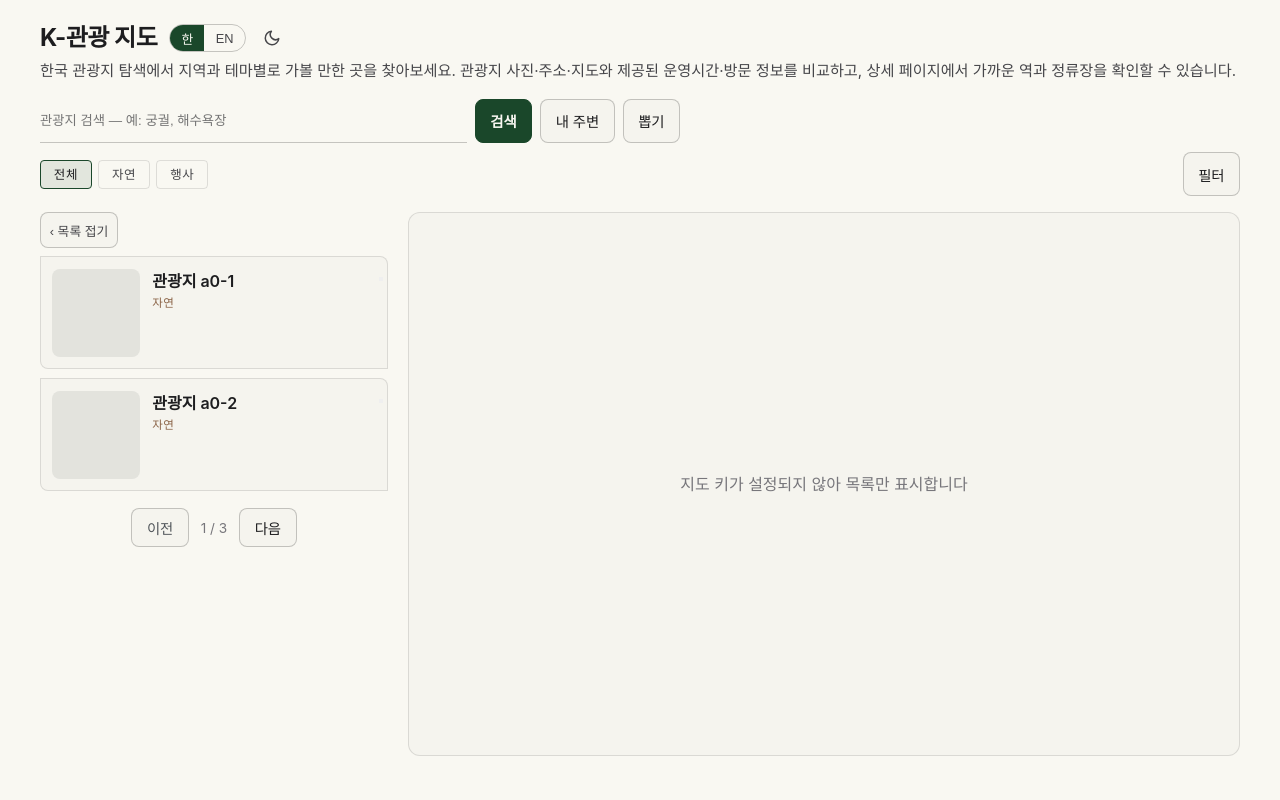
Test: PlacePage 속성 칩 › 다음 쪽은 건수를 요청하지 않고, 앞서 받은 건수를 그대로 보인다
Expected: the heading "관광지 a0-1" is shown, [152,269,234,293]
Click the button "필터" at (1211, 174), box [1183,152,1240,196]
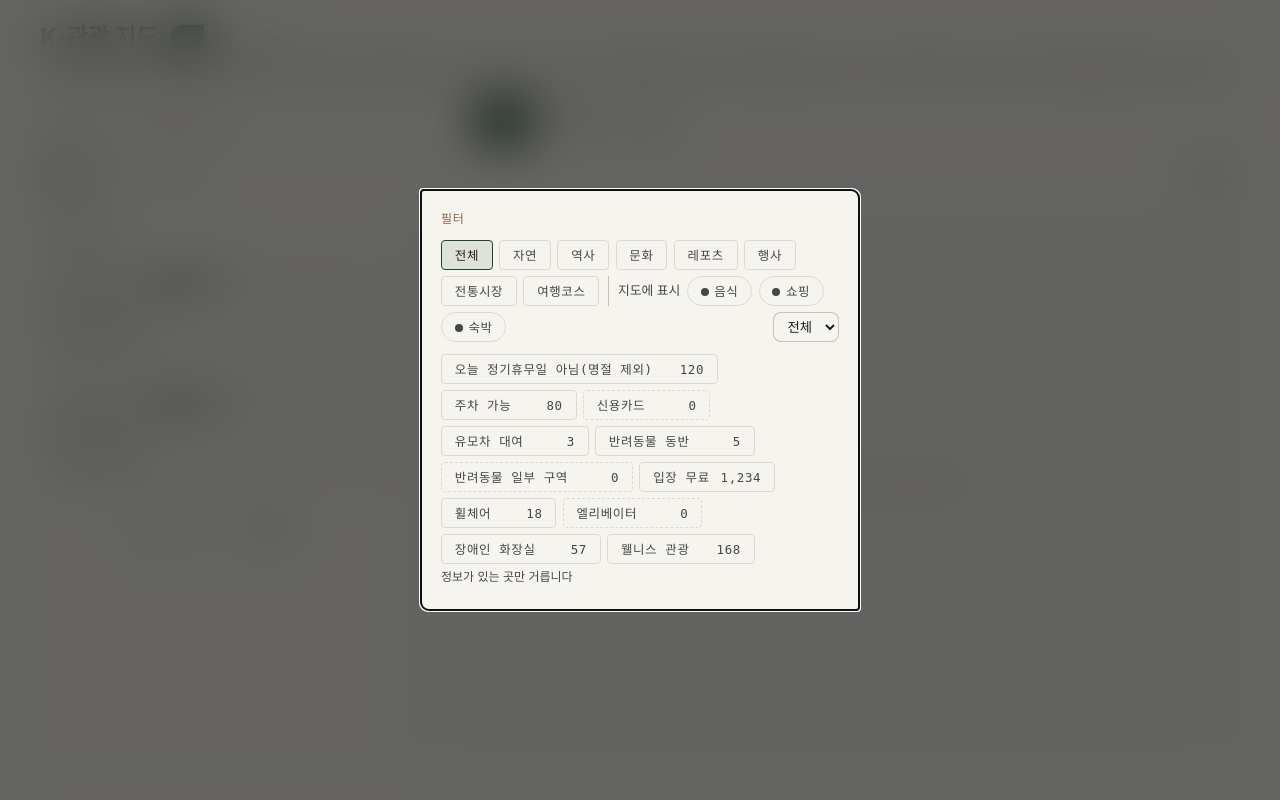
Expected: the button "주차 가능 80" is shown, [441,390,576,420]
Press Escape
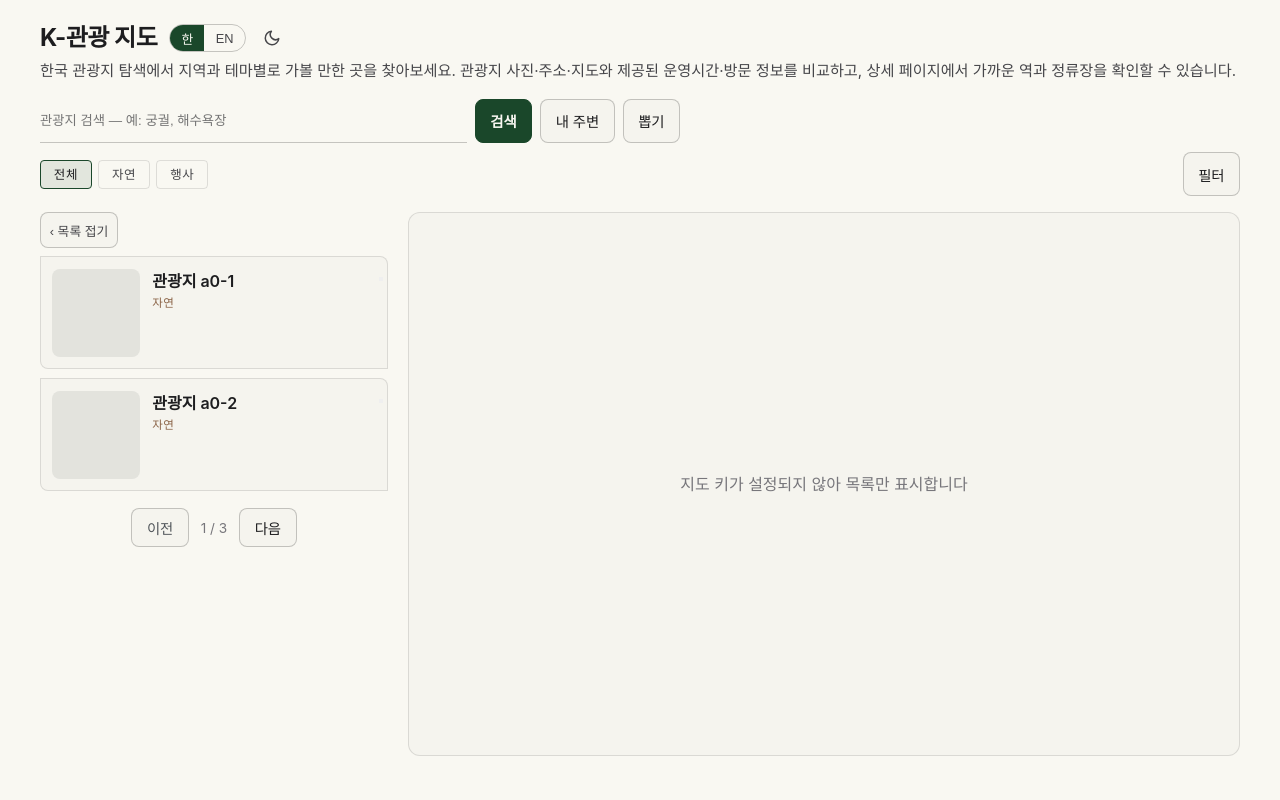
Click the button "다음" at (268, 528), box [239,508,296,547]
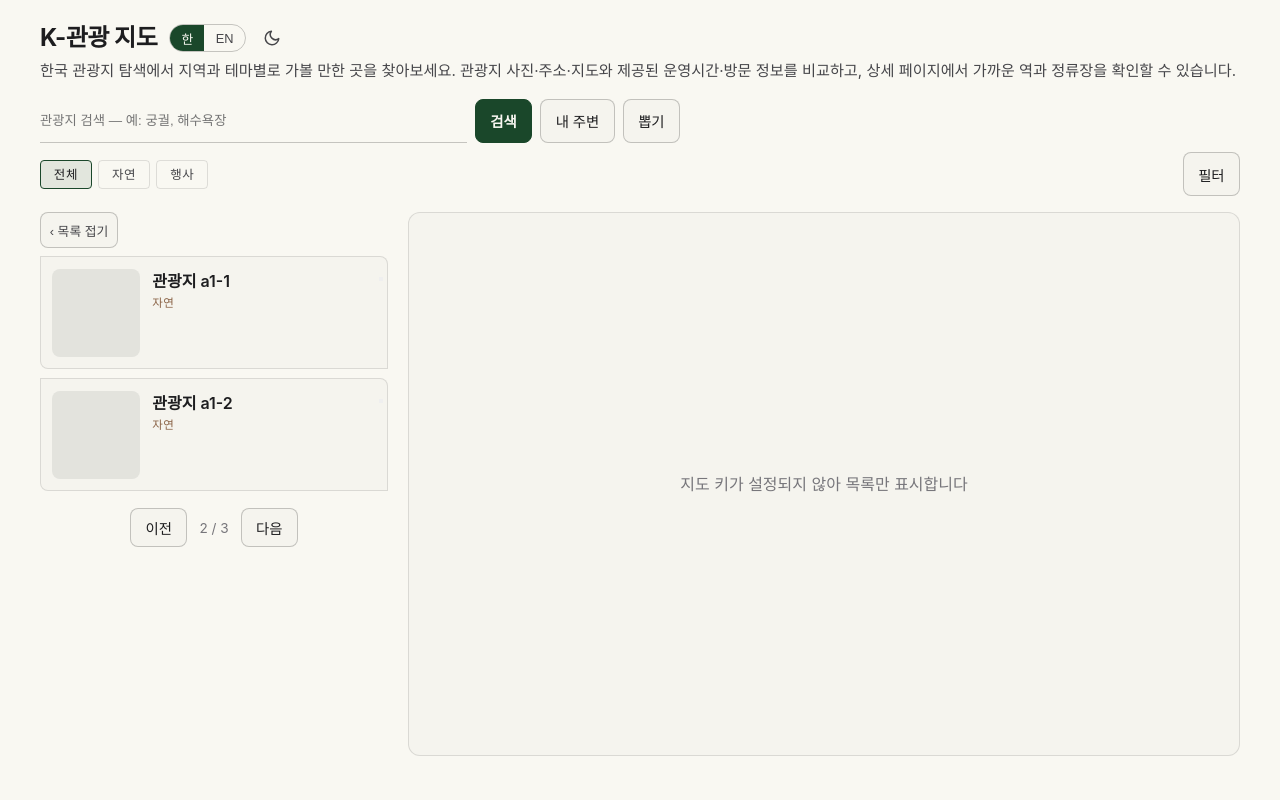
Expected: the heading "관광지 a1-1" is shown, [152,269,230,293]
Click the button "필터" at (1211, 174), box [1183,152,1240,196]
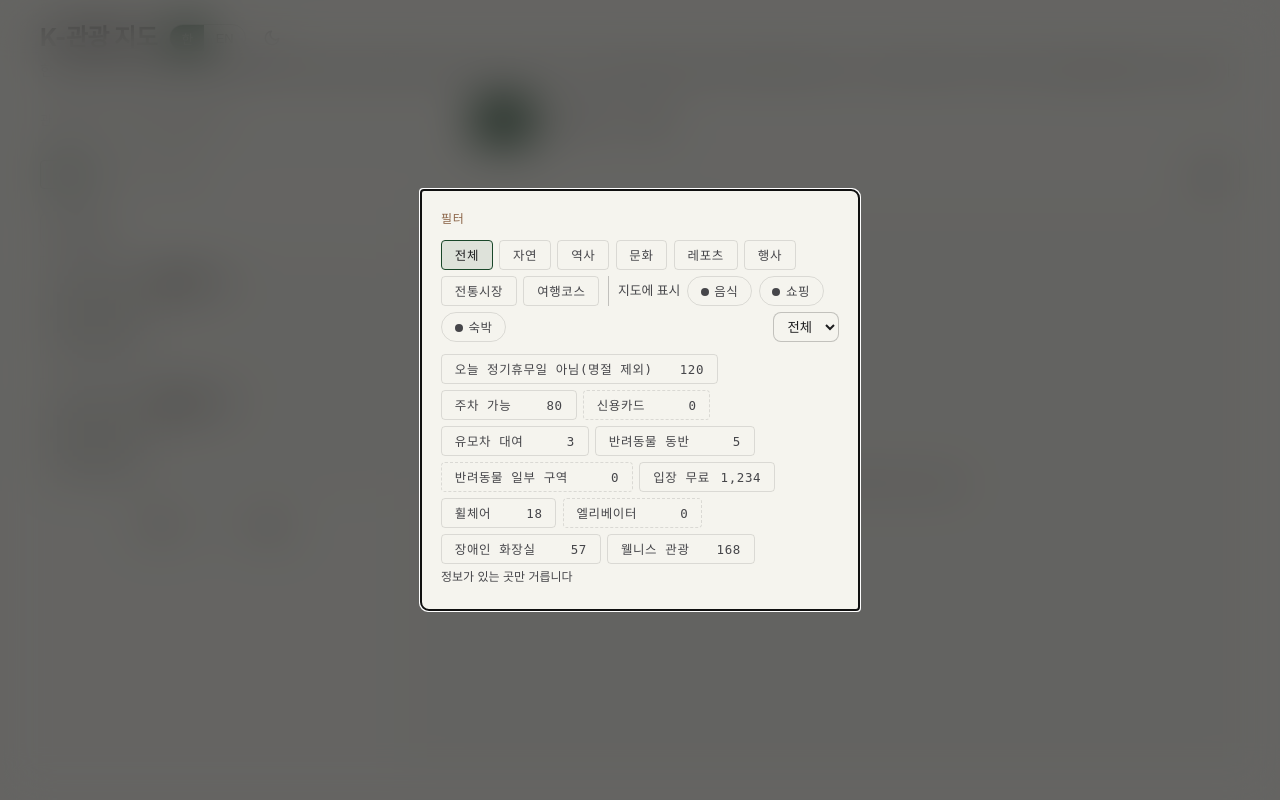
Expected: the button "주차 가능 80" is shown, [441,390,576,420]
